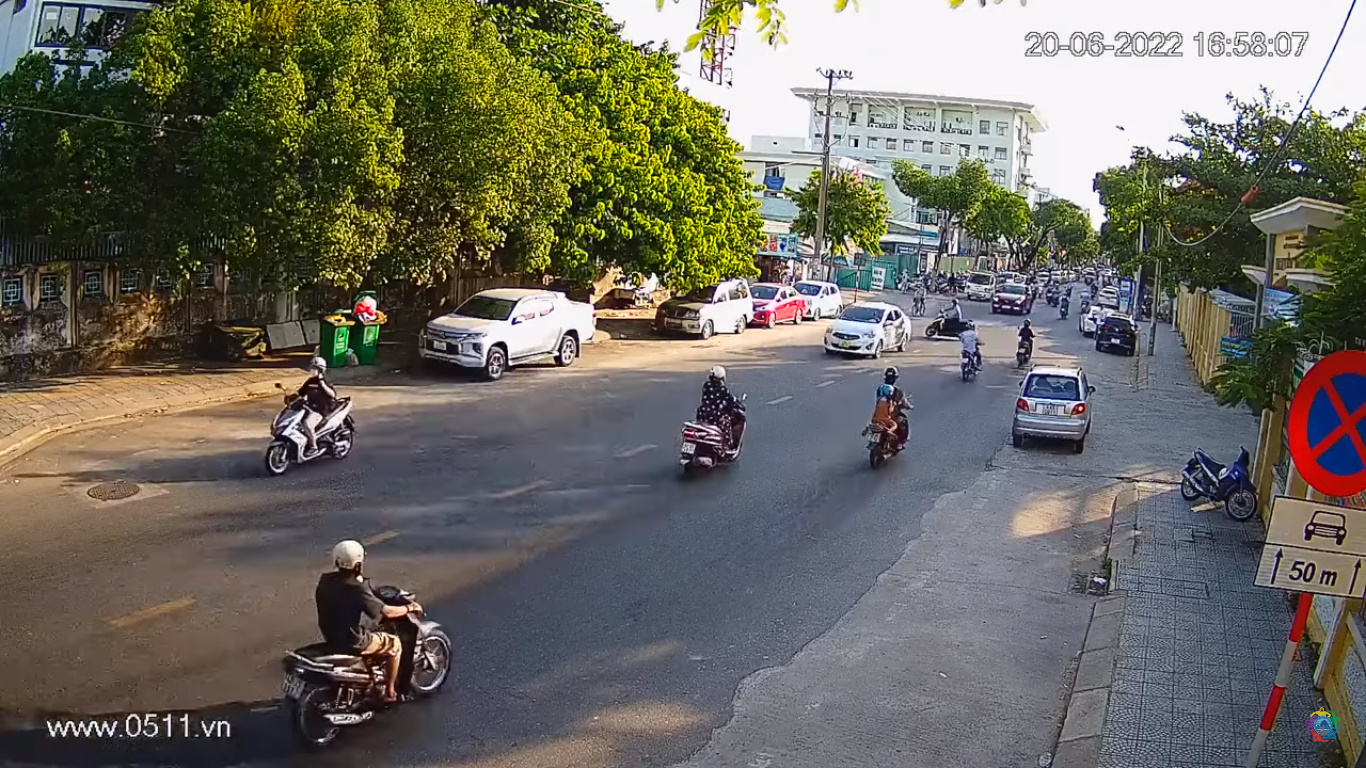car: (822, 299, 915, 361)
